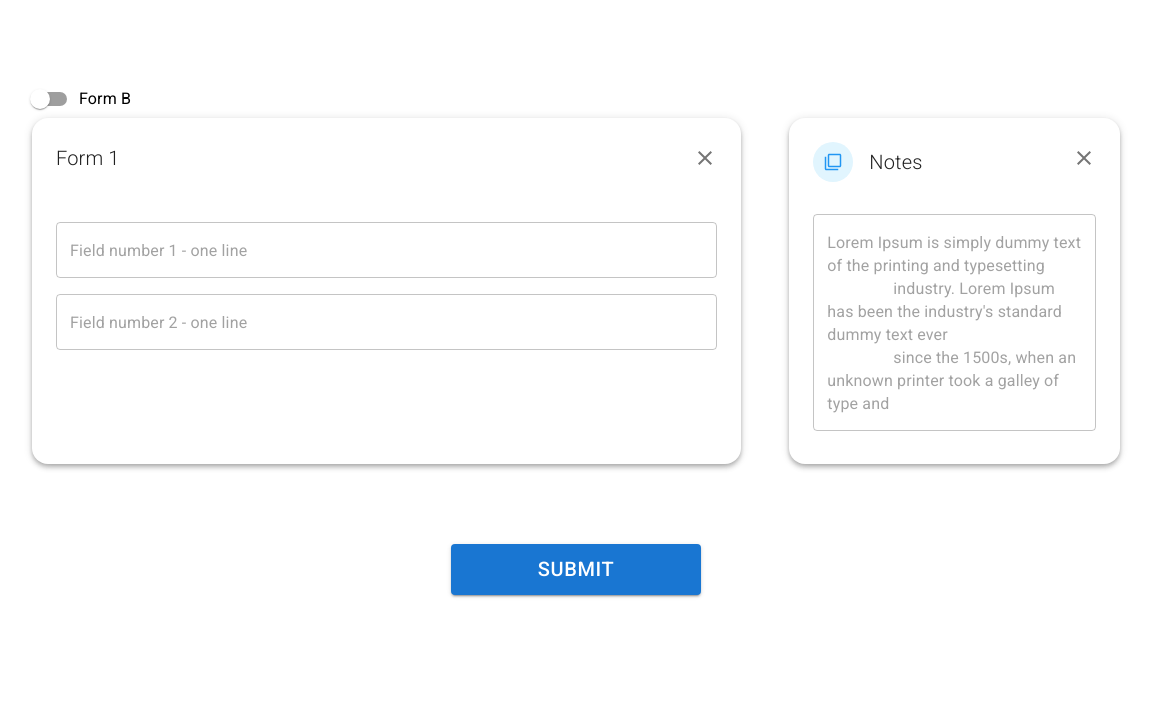
FieldFromPage › toggles to the second form when the switch is clicked
Click the checkbox named "controlled" at (49, 99), box [0,80,97,118]
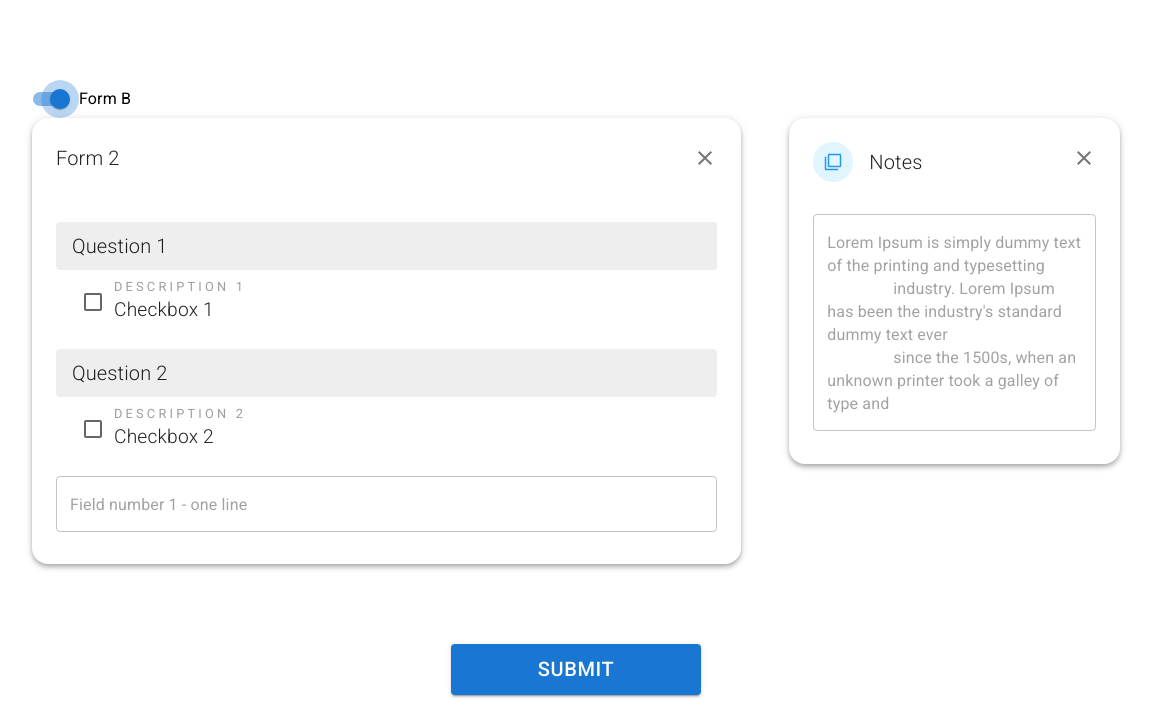
Expected: the element named "checkbox1" is not checked
Expected: the heading with test id "card-title" reads "Form 2", [56,146,120,170]
Expected: the field named "field1" is shown, [56,476,717,532]
